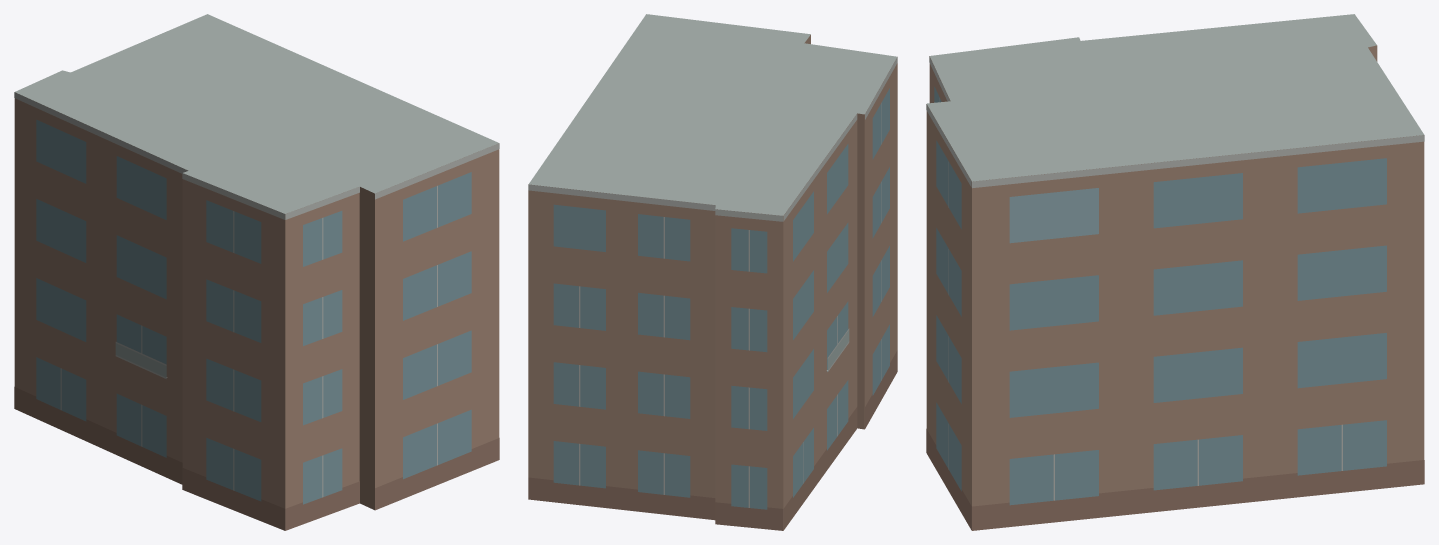
File: survey-upis-33038405.glb
The picture shows the model from 3 angles, left to right: view 1: azimuth 30°, elevation 25°; view 2: azimuth 150°, elevation 25°; view 3: azimuth 270°, elevation 25°; orthographic projection. The views are drawn at different scales.
Parts seen in each view (by area): view 1: survey-upis-33038405.tmp; view 2: survey-upis-33038405.tmp; view 3: survey-upis-33038405.tmp.
Part boxes in pixels (x1,y1,x2,y2): survey-upis-33038405.tmp: [14, 14, 499, 530]; survey-upis-33038405.tmp: [528, 14, 897, 530]; survey-upis-33038405.tmp: [926, 14, 1424, 530].
Bounding box in the file's own units: 13.18 × 12.8 × 16.55.
